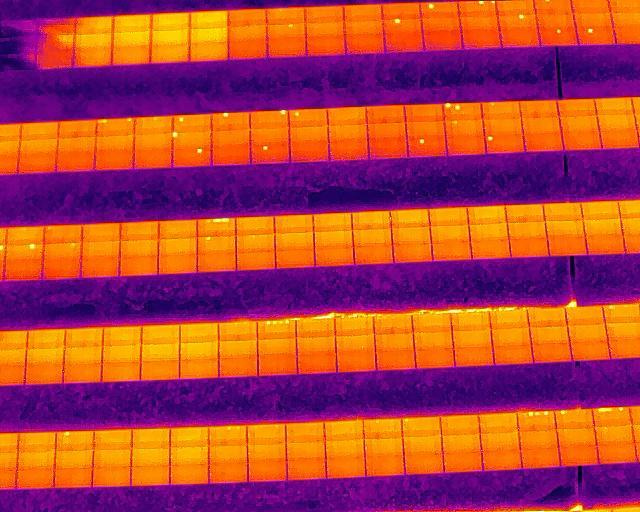Cell: (251, 142, 289, 163), (56, 430, 94, 451), (172, 147, 210, 167), (408, 138, 445, 158), (364, 418, 401, 438), (212, 112, 250, 131), (482, 101, 520, 120), (402, 417, 440, 436), (555, 410, 592, 429), (4, 243, 43, 261), (43, 242, 82, 260), (576, 27, 615, 45), (197, 235, 235, 253), (486, 135, 522, 154), (173, 114, 211, 132), (267, 23, 307, 40), (446, 119, 483, 137), (289, 109, 326, 127), (540, 28, 576, 46), (603, 305, 639, 323), (251, 110, 289, 127), (172, 132, 210, 148), (383, 17, 421, 33), (498, 14, 536, 30), (134, 117, 171, 133), (421, 3, 460, 17), (535, 0, 572, 13)
Cell-Multi: (209, 426, 247, 446), (257, 320, 296, 339), (96, 118, 134, 137), (518, 412, 555, 431), (444, 103, 481, 121), (459, 0, 496, 16)
No-Anomaly: (17, 151, 58, 174), (4, 260, 43, 282), (58, 148, 95, 171), (248, 459, 286, 481), (112, 45, 151, 66), (180, 357, 219, 378), (212, 144, 250, 165), (258, 354, 296, 375), (337, 351, 375, 372), (27, 329, 65, 350), (64, 327, 102, 348), (483, 449, 521, 470), (354, 244, 393, 264), (393, 242, 432, 262), (432, 240, 471, 260), (228, 41, 267, 61), (345, 33, 384, 53), (63, 364, 102, 384), (141, 360, 180, 380), (219, 357, 258, 377), (170, 427, 209, 447), (325, 419, 364, 439), (291, 141, 328, 162), (369, 138, 406, 159), (306, 35, 343, 56), (598, 443, 635, 464), (471, 239, 509, 259), (159, 236, 197, 256), (548, 235, 586, 255), (586, 235, 624, 255), (120, 220, 158, 240), (16, 468, 54, 488), (131, 466, 169, 486), (95, 149, 133, 169), (330, 140, 368, 160), (209, 462, 247, 482), (326, 457, 364, 477), (266, 40, 306, 59), (500, 29, 540, 48), (102, 361, 140, 381), (297, 354, 337, 373), (376, 350, 414, 370), (455, 346, 493, 366), (42, 260, 80, 280), (120, 256, 158, 276), (159, 254, 197, 274), (444, 451, 482, 471), (55, 450, 93, 470), (560, 446, 598, 466), (326, 439, 364, 459), (17, 432, 55, 452), (519, 429, 557, 449), (247, 424, 285, 444), (286, 422, 324, 442), (479, 413, 517, 433), (92, 468, 131, 487), (562, 132, 601, 151), (57, 119, 96, 138), (150, 44, 189, 63), (189, 43, 228, 62), (385, 33, 424, 52), (112, 30, 151, 49), (24, 366, 63, 385), (415, 349, 454, 368), (103, 326, 142, 345), (197, 252, 236, 271), (287, 441, 326, 460), (16, 451, 55, 470), (447, 136, 484, 156), (522, 448, 559, 468), (94, 430, 131, 450), (132, 429, 169, 449), (595, 425, 632, 445), (441, 415, 478, 435), (237, 251, 275, 270), (315, 247, 353, 266), (510, 239, 548, 258), (159, 219, 197, 238), (314, 213, 352, 232), (468, 205, 506, 224), (54, 469, 92, 488), (133, 148, 171, 167), (170, 465, 208, 484), (328, 106, 366, 125), (287, 461, 325, 480), (366, 457, 404, 476), (73, 49, 111, 68), (424, 32, 462, 51), (405, 454, 443, 473), (494, 345, 532, 364), (533, 344, 571, 363), (142, 325, 180, 344), (219, 322, 257, 341), (75, 15, 113, 34), (170, 446, 208, 465), (365, 438, 403, 457), (404, 435, 442, 454), (443, 433, 481, 452), (481, 431, 519, 450), (557, 428, 595, 447), (594, 97, 634, 115), (73, 33, 113, 51), (82, 240, 119, 259), (82, 223, 119, 242), (524, 133, 561, 152), (463, 30, 500, 49), (492, 327, 529, 346), (81, 259, 118, 278), (120, 239, 159, 257), (353, 228, 392, 246), (43, 225, 82, 243), (583, 219, 622, 237), (352, 211, 391, 229), (429, 208, 468, 226), (366, 105, 405, 123), (26, 348, 65, 366), (63, 346, 102, 364), (180, 341, 219, 359), (297, 336, 336, 354), (375, 332, 414, 350), (374, 316, 413, 334), (412, 314, 451, 332), (451, 312, 490, 330), (113, 15, 152, 33), (276, 250, 314, 268), (236, 234, 274, 252), (275, 232, 313, 250), (392, 226, 430, 244), (275, 214, 313, 232), (391, 210, 429, 228), (506, 205, 544, 223), (582, 202, 620, 220), (368, 122, 406, 140), (570, 342, 608, 360), (219, 340, 257, 358), (453, 329, 491, 347), (335, 318, 373, 336), (490, 310, 528, 328), (528, 308, 566, 326), (93, 450, 131, 468), (209, 446, 247, 464), (247, 443, 285, 461), (559, 116, 599, 133), (236, 216, 273, 234), (601, 131, 638, 149), (406, 121, 443, 139), (405, 104, 442, 122), (181, 324, 218, 342), (151, 13, 188, 31), (5, 226, 44, 243), (430, 225, 469, 242), (544, 203, 583, 220), (95, 135, 134, 152), (328, 123, 367, 140), (102, 345, 141, 362), (141, 344, 180, 361), (258, 339, 297, 356), (336, 336, 375, 353), (414, 332, 453, 349), (567, 325, 606, 342), (421, 15, 460, 32), (131, 450, 170, 467), (314, 230, 352, 247), (134, 133, 172, 150), (211, 129, 249, 146), (20, 122, 58, 139), (520, 100, 558, 117), (558, 100, 596, 117), (530, 326, 568, 343), (297, 320, 335, 337), (566, 308, 604, 325), (190, 11, 228, 28), (228, 9, 266, 26), (267, 7, 305, 24), (508, 222, 545, 239), (290, 125, 327, 142), (484, 119, 521, 136), (306, 5, 343, 22), (470, 224, 509, 240), (545, 220, 584, 236), (151, 29, 190, 45), (383, 3, 422, 19), (56, 135, 97, 150), (522, 117, 558, 134), (190, 28, 228, 44), (345, 18, 383, 34), (536, 12, 574, 28), (597, 115, 637, 130), (460, 16, 500, 31), (251, 127, 288, 143), (228, 26, 267, 41), (344, 4, 383, 19), (496, 0, 535, 15), (19, 138, 57, 153), (307, 21, 344, 36), (605, 324, 639, 340), (575, 12, 611, 27)
Shadowing: (0, 18, 38, 37), (0, 53, 37, 72), (36, 51, 73, 70), (38, 17, 75, 36), (0, 36, 37, 53), (38, 35, 74, 52)
Unclassified: (593, 407, 632, 427), (197, 219, 235, 237)
